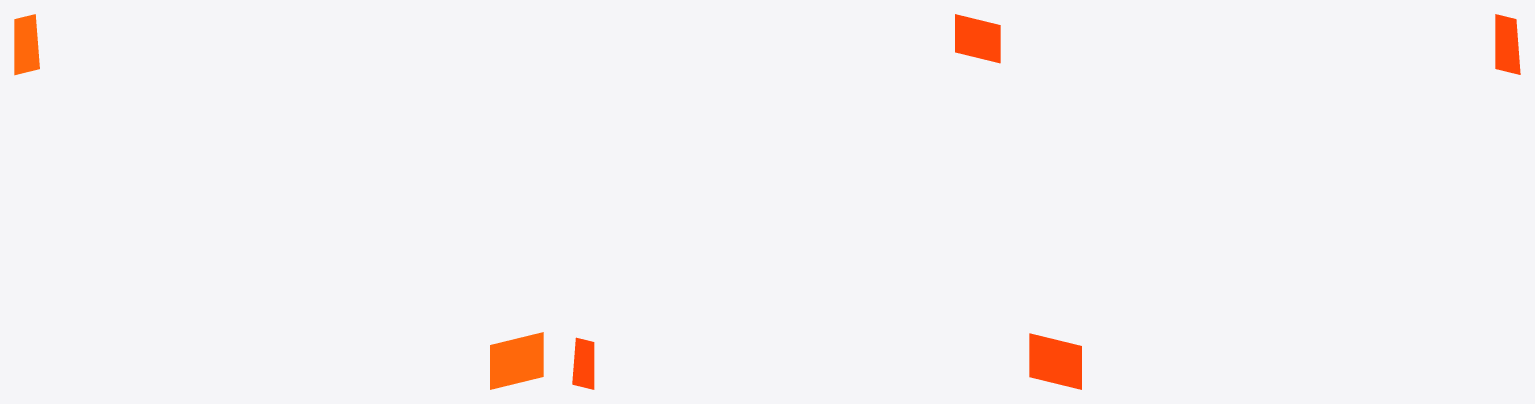
Rendered from Car_BlinkerL.glb.
3 views of the same model, side by side, from view 1: azimuth 30°, elevation 25°; view 2: azimuth 150°, elevation 25°; view 3: azimuth 330°, elevation 25° (orthographic). The views are drawn at different scales.
Parts seen in each view (by area): view 1: 左ウィンカー; view 2: 左ウィンカー; view 3: 左ウィンカー.
Part boxes in pixels (x1,y1,x2,y2): 左ウィンカー: (14,14,543,389); 左ウィンカー: (572,14,1000,389); 左ウィンカー: (1029,14,1520,389).
Size of the model in its own units: 0.25 by 0.35 by 3.84.
